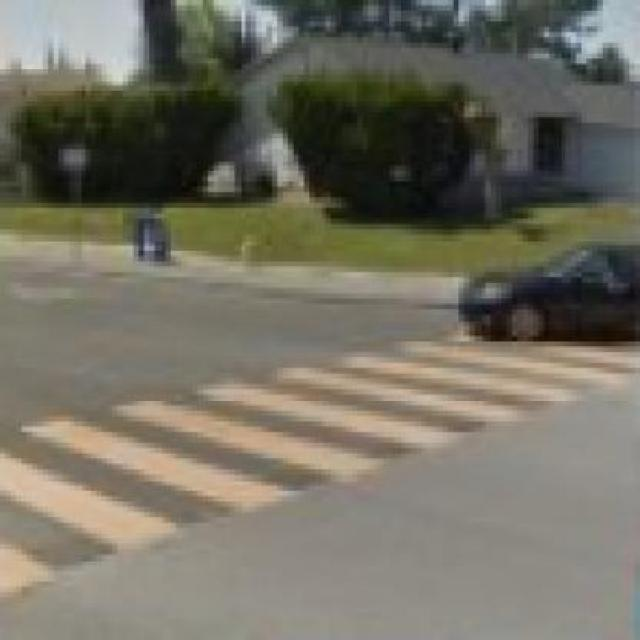crosswalk: (0, 328, 636, 606)
